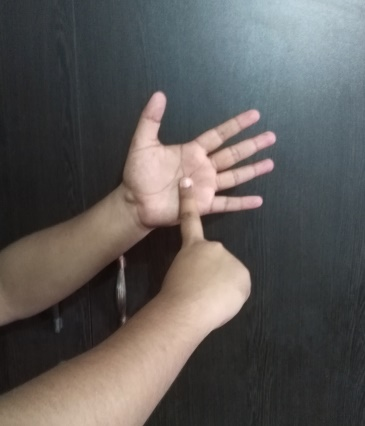oo: (122, 90, 280, 313)
